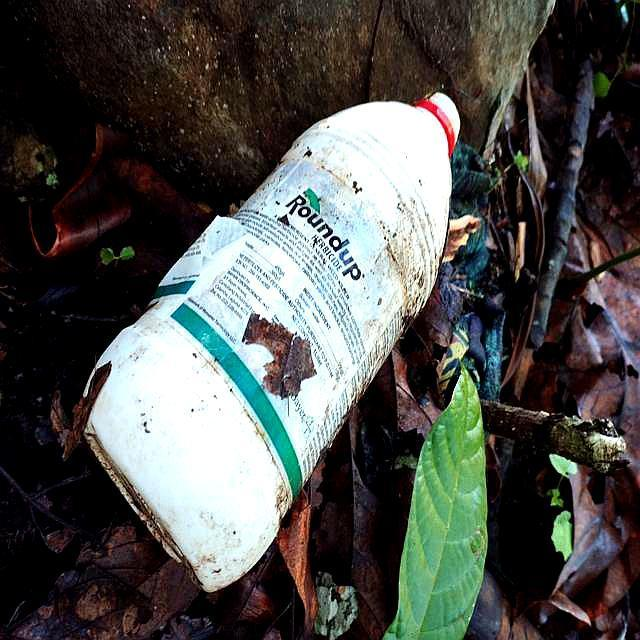Non-biodegradable: (51, 15, 521, 621)
